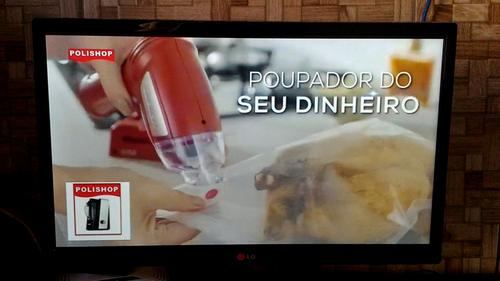Polishop #1: (66, 181, 131, 241)
